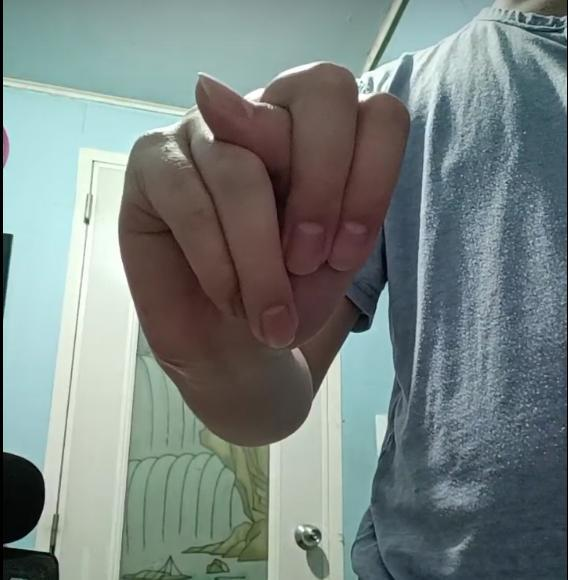n: (120, 57, 411, 351)
